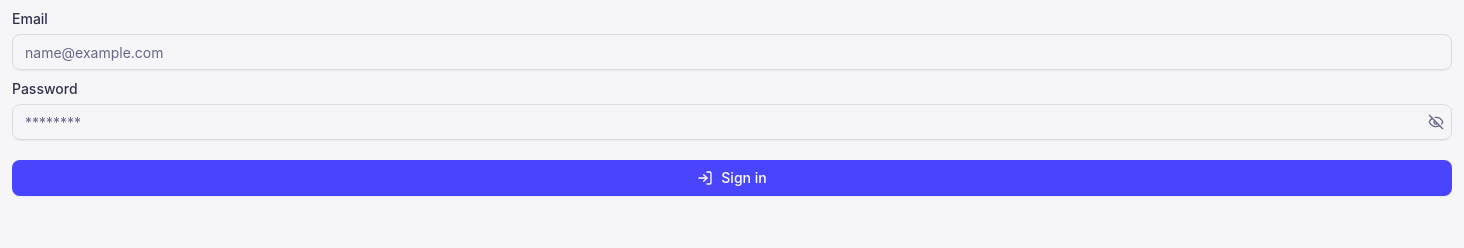
Test: UserAuthForm › el limite de intentos se explica en lugar de decir "error"
In the field labelled "Email": coordinates (732, 52) [12,34,1452,70], type "admin@jc2.local"
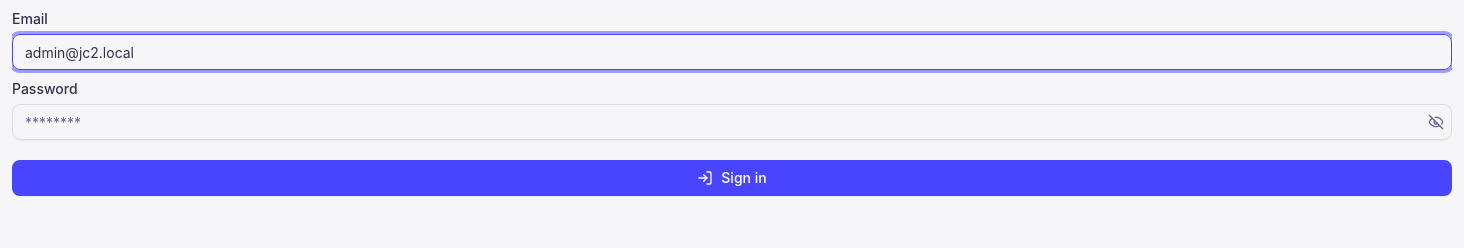
In the password field labelled "Password": coordinates (732, 122) [12,104,1452,140], type "contrasena-larga"
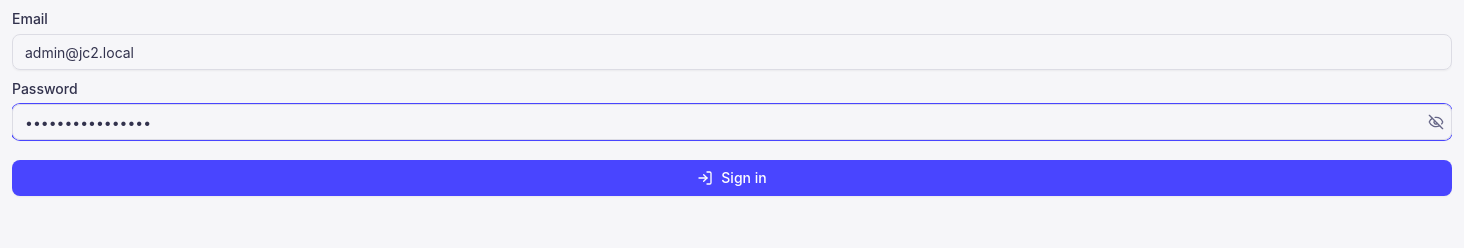
Click the button "Sign in": coordinates (732, 178) [12,160,1452,196]
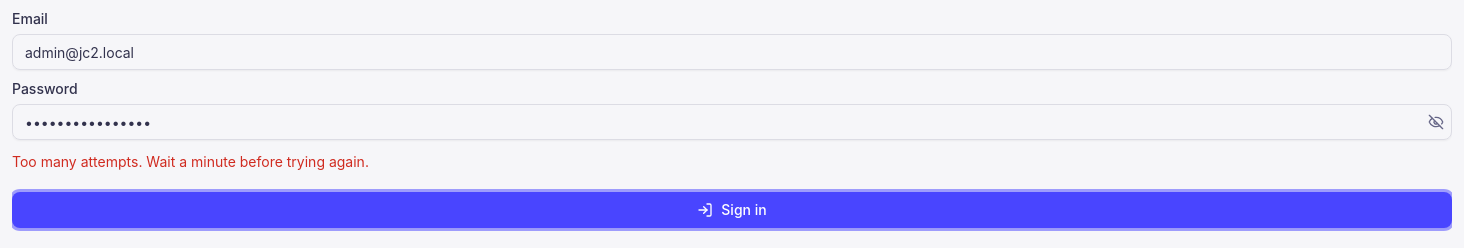
Expected: the text "Too many attempts. Wait a minute before trying again." is shown, [12,153,369,170]
